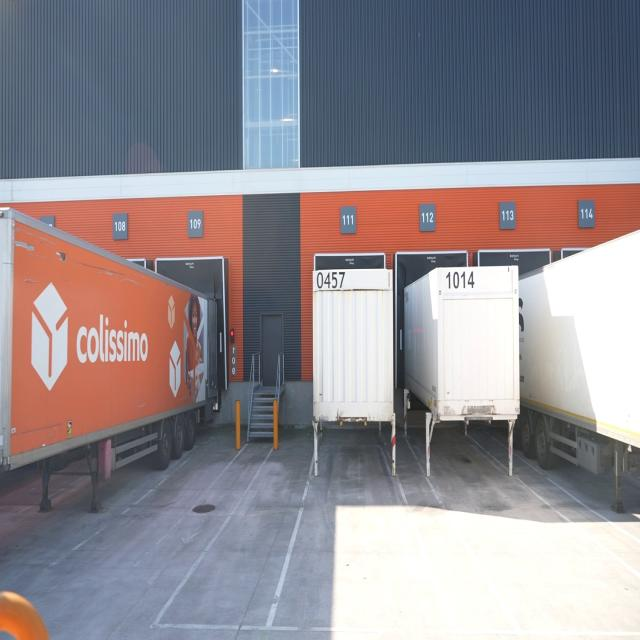Code: (443, 266, 479, 294), (313, 268, 348, 292)
